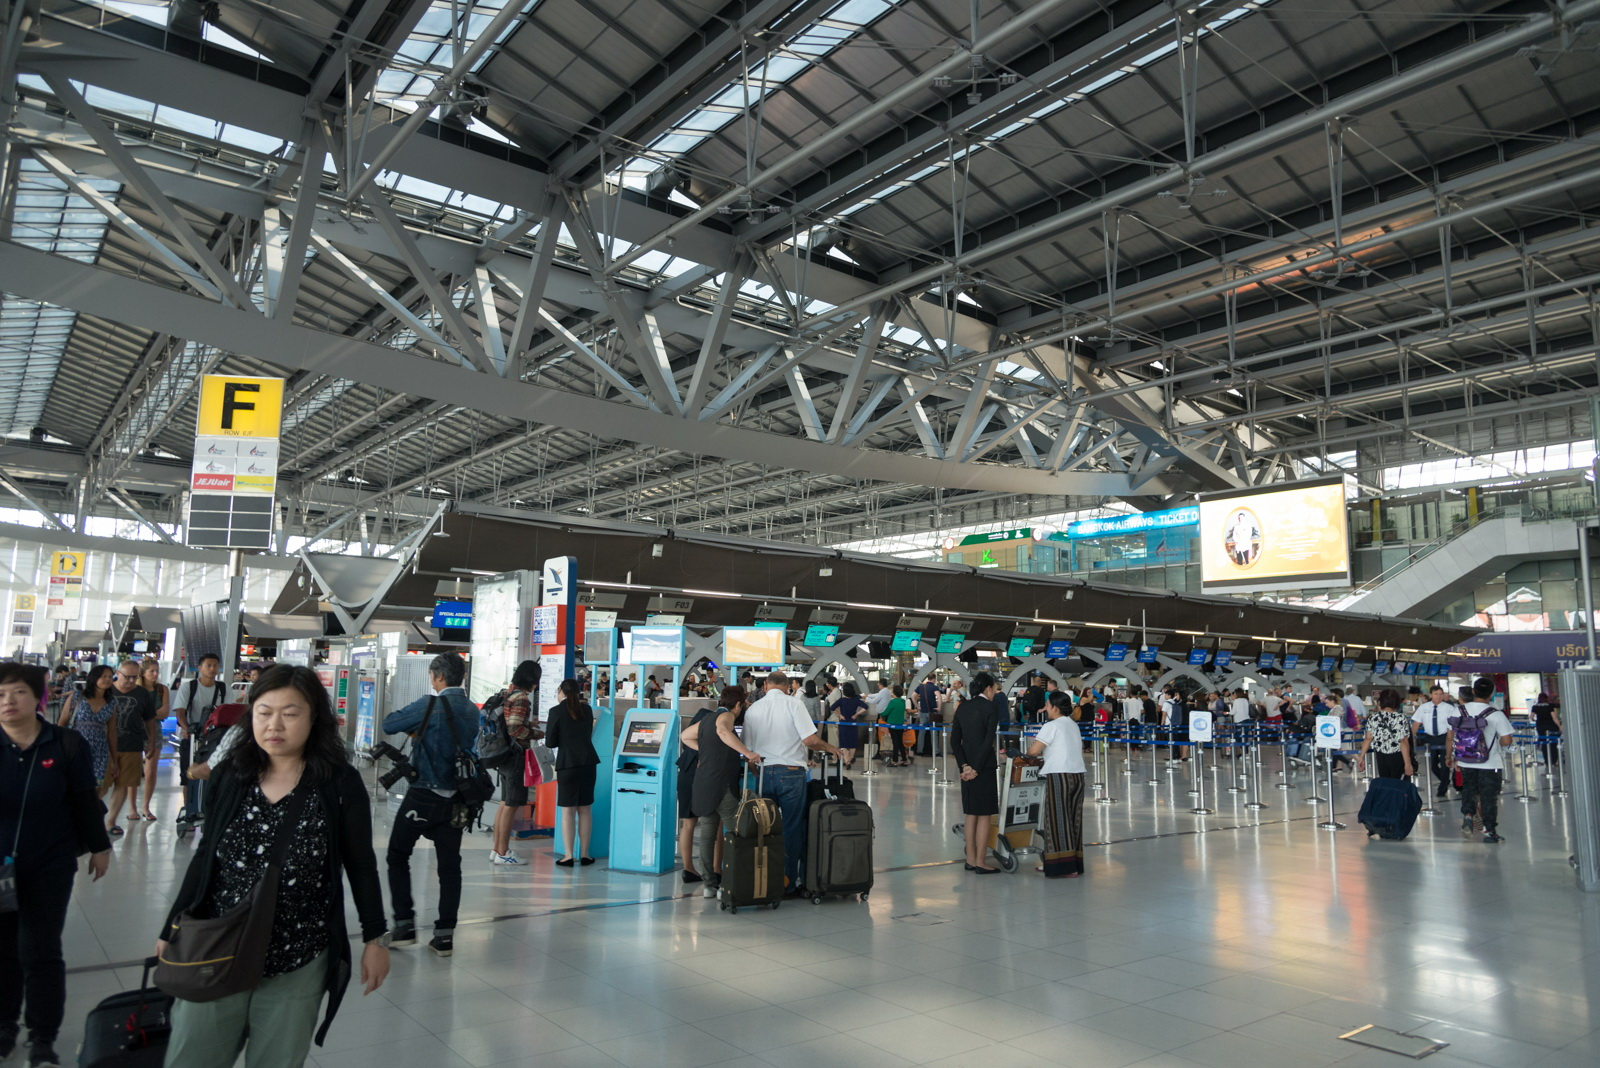backpack: (1449, 706, 1494, 770), (476, 696, 507, 765)
bag: (144, 863, 282, 1006), (444, 743, 502, 812), (802, 743, 854, 807), (731, 791, 785, 839)
luggage: (67, 953, 191, 1068), (812, 747, 876, 906), (728, 755, 785, 916), (1359, 758, 1423, 852)
people: (176, 652, 353, 1068), (377, 647, 472, 965), (1, 677, 79, 1006), (749, 665, 825, 896), (1449, 676, 1522, 863), (674, 686, 738, 898), (548, 670, 610, 863), (951, 658, 1000, 883), (171, 645, 230, 825), (481, 647, 528, 870), (113, 652, 169, 829), (1035, 683, 1082, 888), (1366, 680, 1417, 855), (59, 653, 113, 804)
